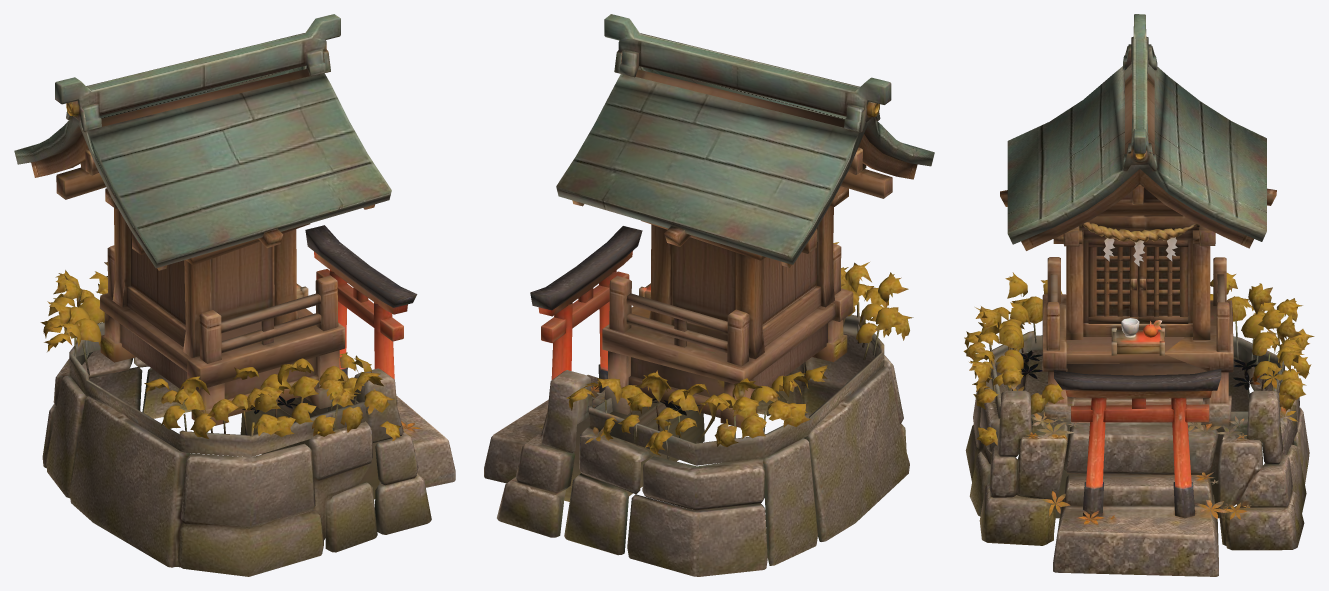
The model's file is hokora.glb.
The picture shows the model from 3 angles, left to right: view 1: azimuth 30°, elevation 25°; view 2: azimuth 150°, elevation 25°; view 3: azimuth 270°, elevation 25°; orthographic projection. The views are drawn at different scales.
Parts seen in each view (by area): view 1: tripo_node_aad1e5ed-2ad3-4b90-8e9e-1c0ed05fd97f; view 2: tripo_node_aad1e5ed-2ad3-4b90-8e9e-1c0ed05fd97f; view 3: tripo_node_aad1e5ed-2ad3-4b90-8e9e-1c0ed05fd97f.
Part boxes in pixels (<box>): tripo_node_aad1e5ed-2ad3-4b90-8e9e-1c0ed05fd97f: <box>14,14,455,576</box>; tripo_node_aad1e5ed-2ad3-4b90-8e9e-1c0ed05fd97f: <box>484,14,934,576</box>; tripo_node_aad1e5ed-2ad3-4b90-8e9e-1c0ed05fd97f: <box>963,14,1314,576</box>.
Bounding box in the file's own units: 0.8423 × 0.9995 × 0.7866.
1 material, 1 textured.
